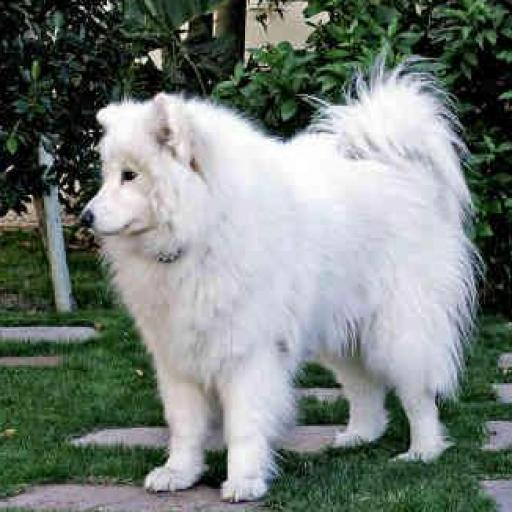dog_face: (79, 101, 194, 239)
